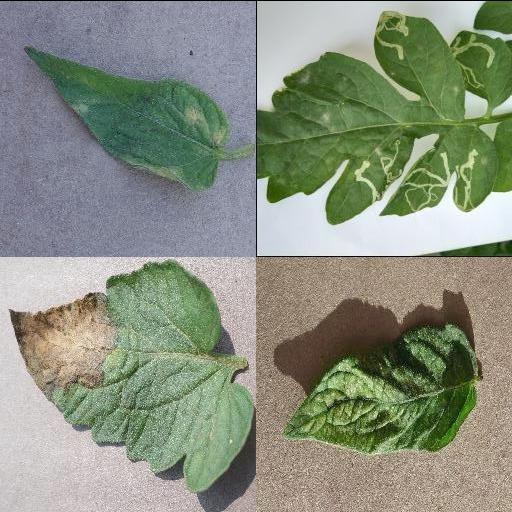Late Blight: (6, 259, 256, 495)
Leaf Miner: (256, 10, 497, 225), (449, 29, 512, 108)
Leaf Mold: (24, 45, 228, 186)
Spider Mites: (283, 324, 475, 454)
